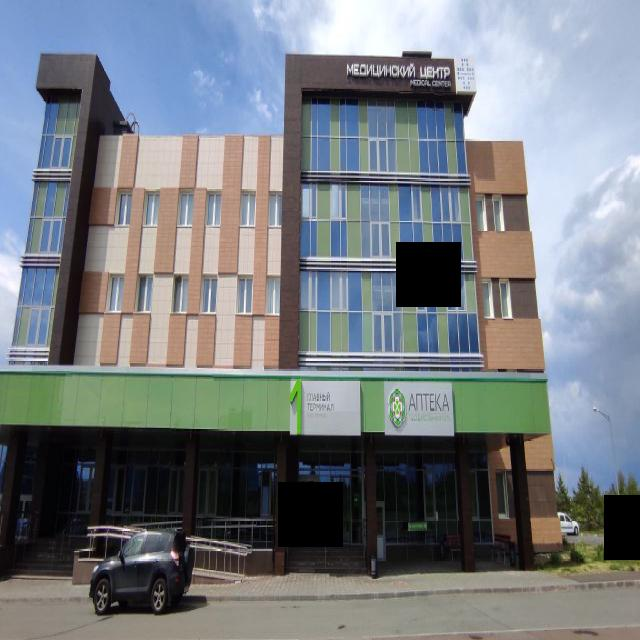Building: (0, 47, 562, 587)
